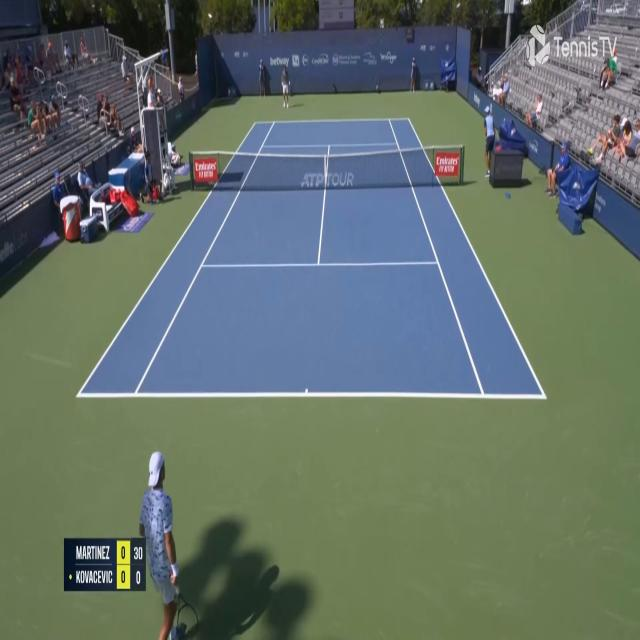tennis-player: (138, 444, 200, 639), (281, 64, 292, 109)
